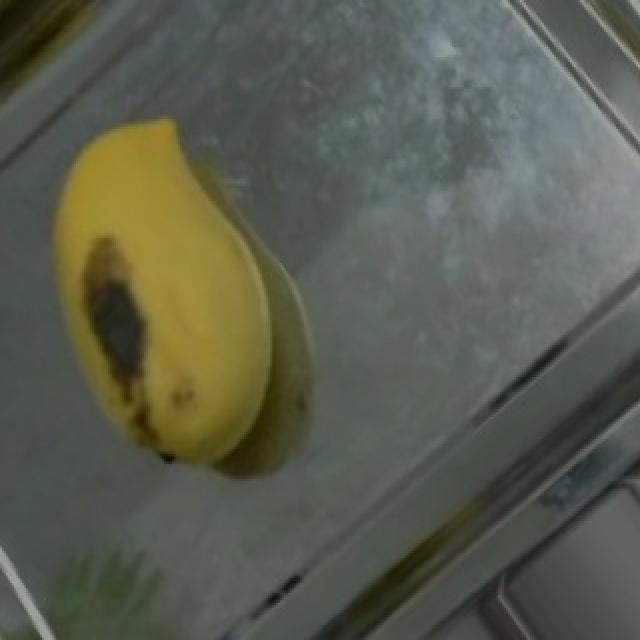fruit: (8, 77, 366, 486)
